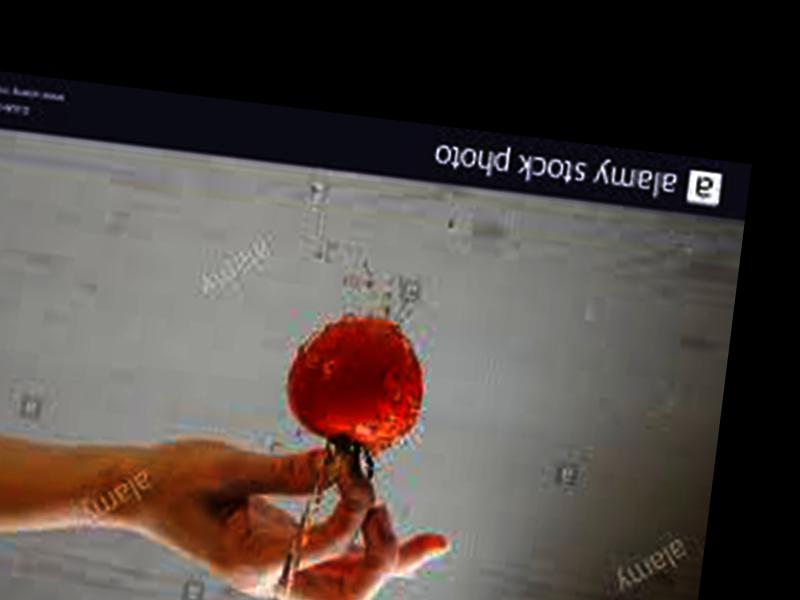Tomato: (277, 305, 427, 452)
